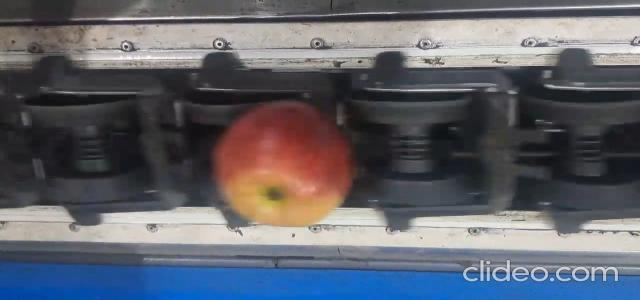apple: (214, 101, 351, 226)
